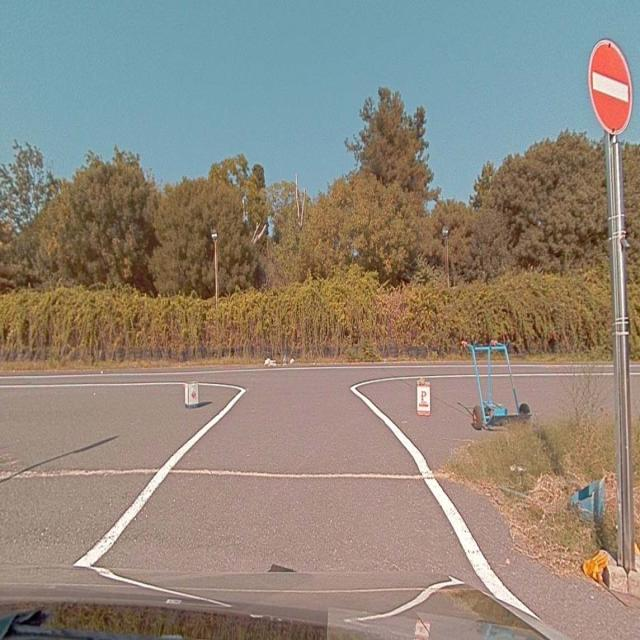girisyok: (590, 41, 630, 133)
